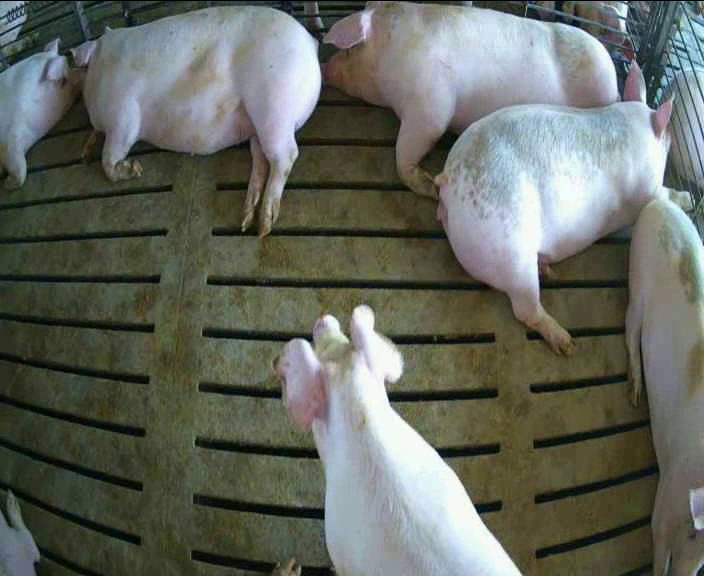pig: (435, 63, 695, 354), (277, 305, 518, 574), (324, 3, 618, 196), (72, 7, 320, 232), (626, 198, 703, 573), (0, 39, 84, 189)
